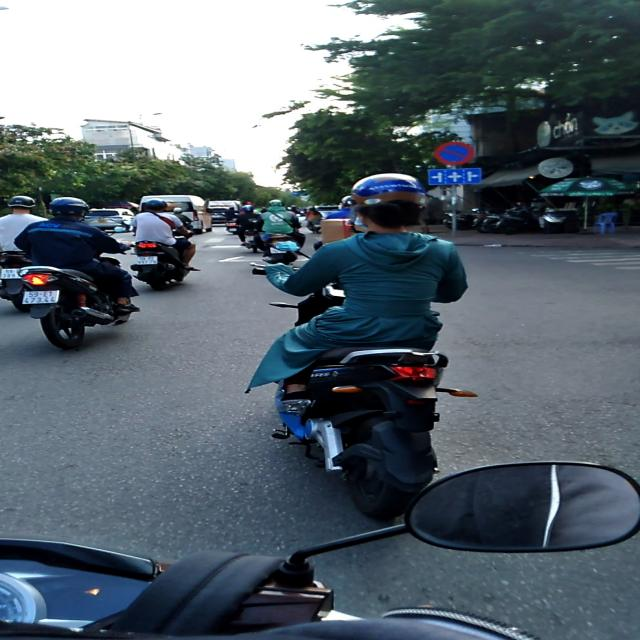Cam do: (434, 141, 475, 165)
